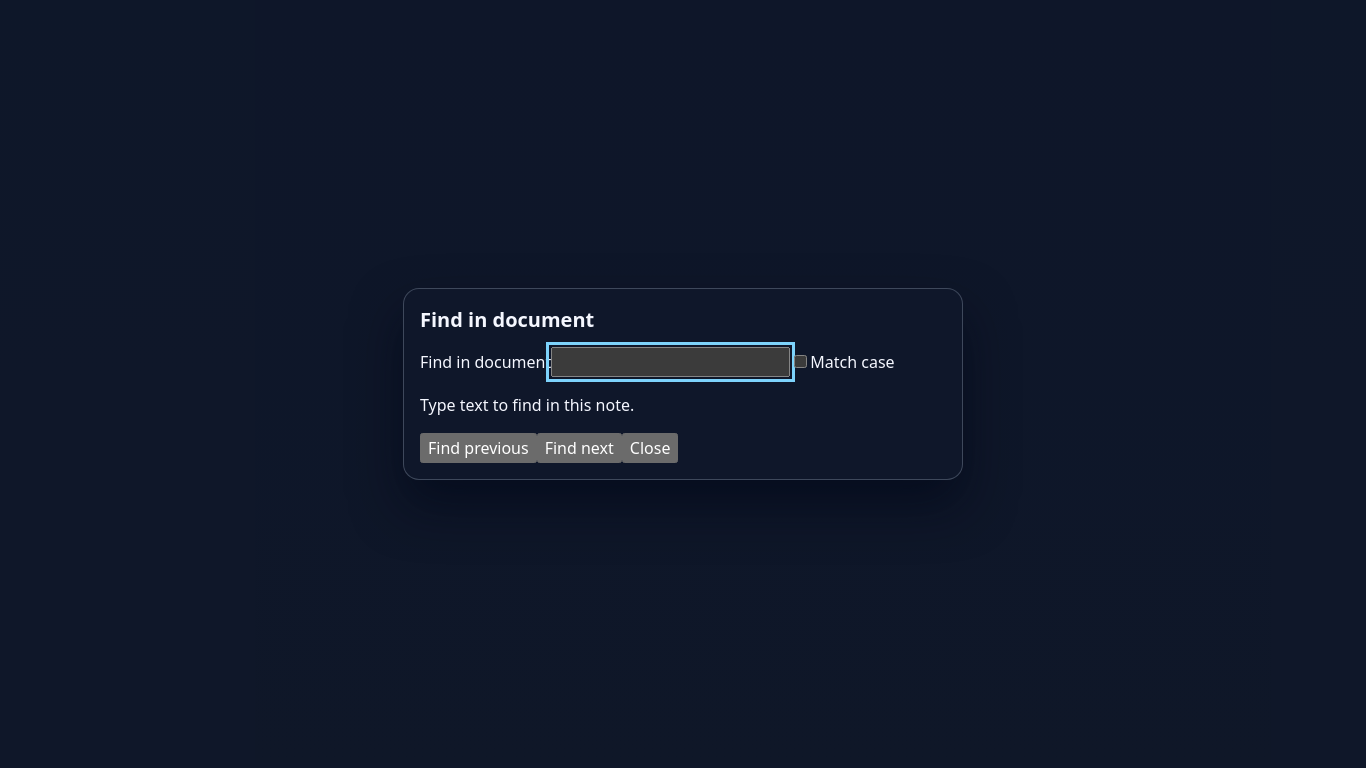
it: Find dialog › keeps the dialog open when a listed match cannot be moved to
Step 1. Type "Idea" into the field labelled "Find in document" → (671,362), box 551,347 -> 790,377
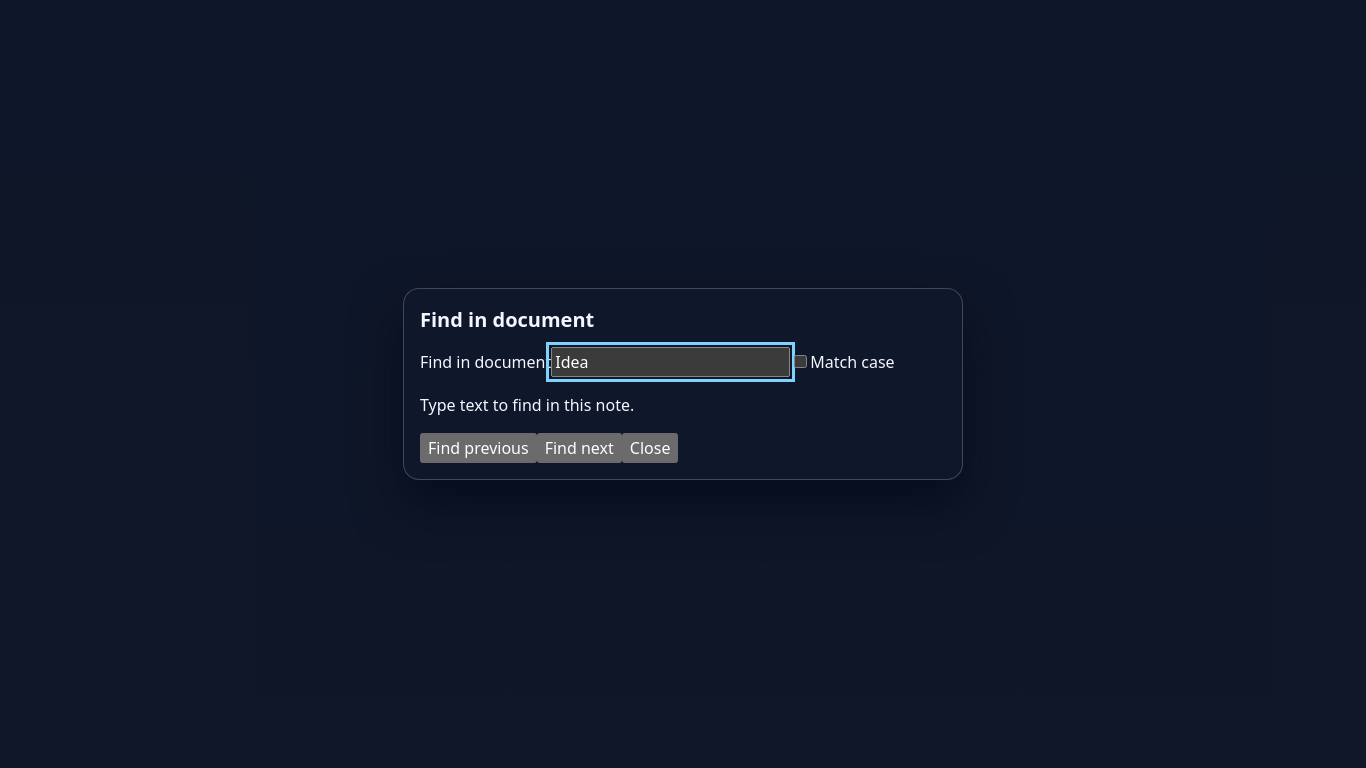
Step 2. Click the button "Find next" → (579,448), box 537,433 -> 622,463
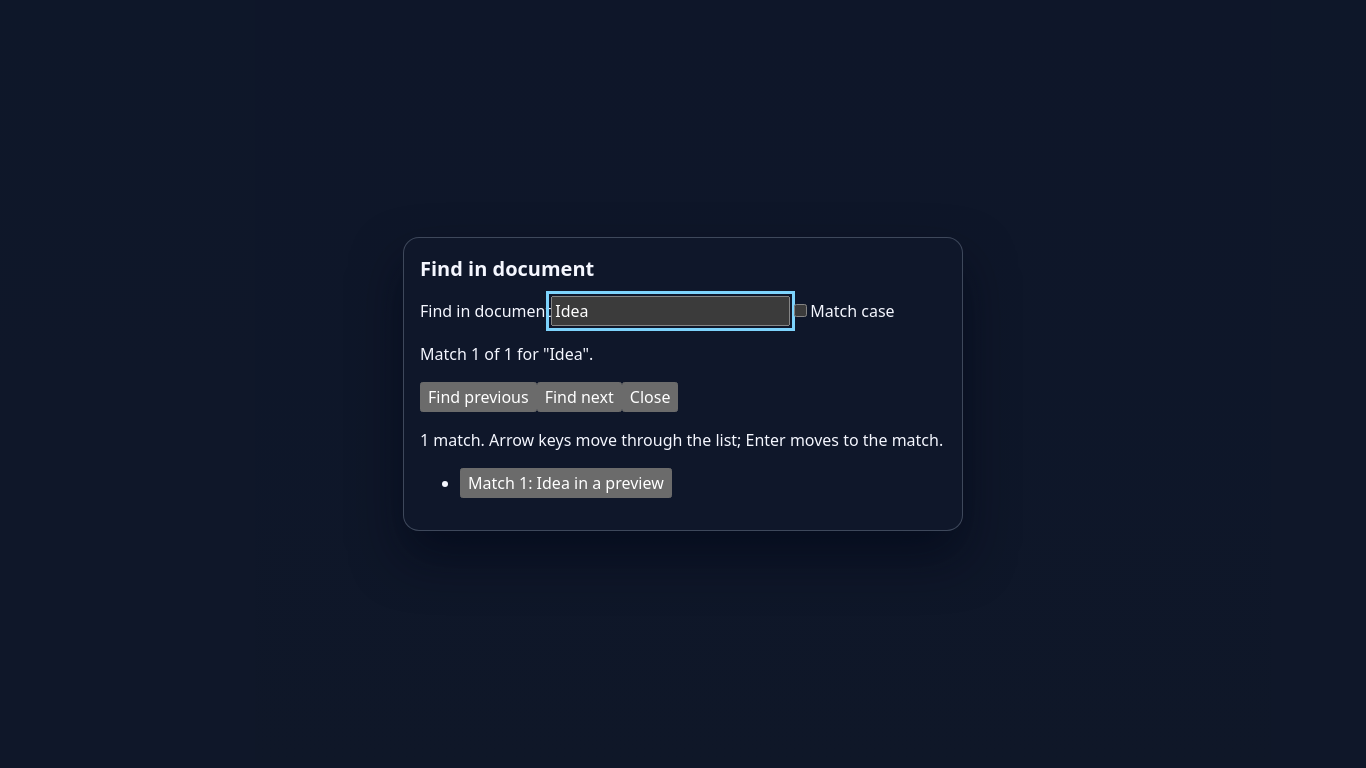
Step 3. Click the button "Match 1: Idea in a preview" → (566,483), box 460,468 -> 672,498
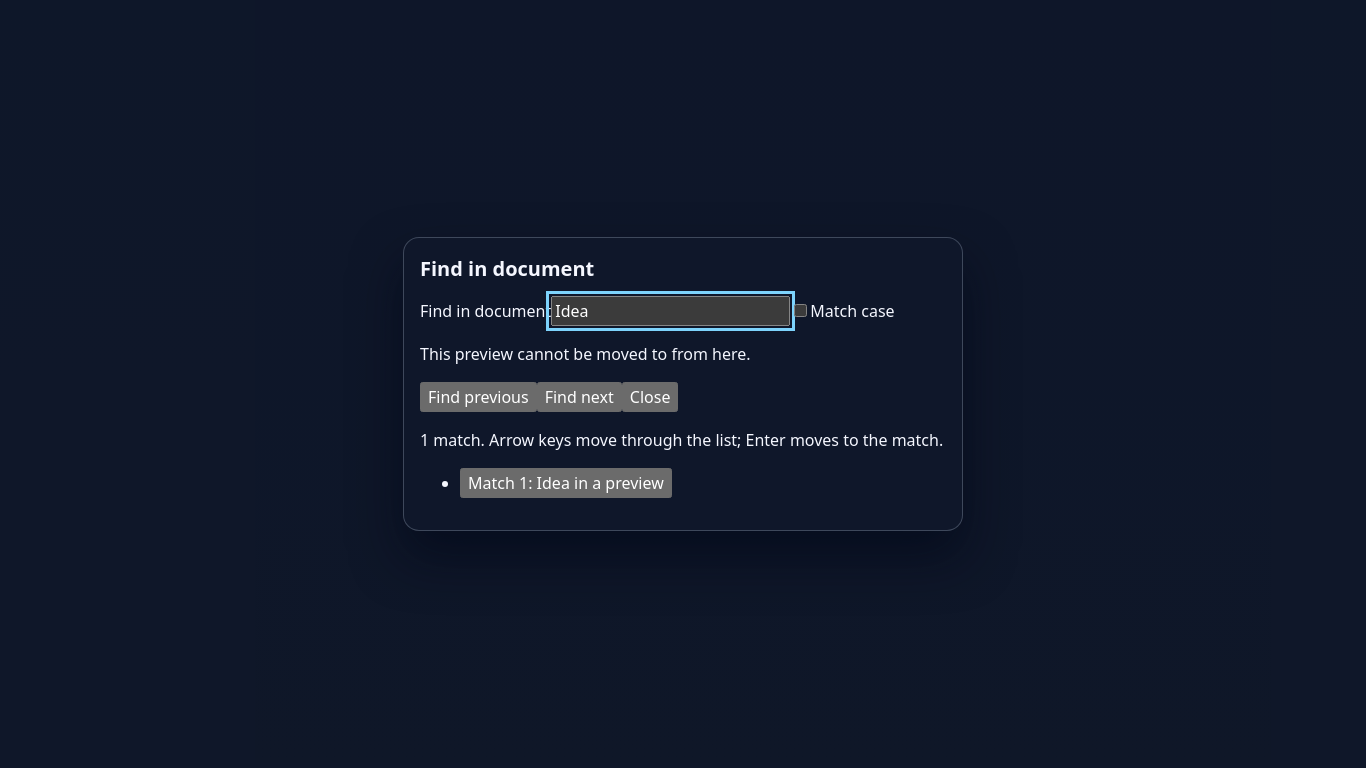
Expected: the message reads "This preview cannot be moved to from here.", 420,343 -> 750,365
